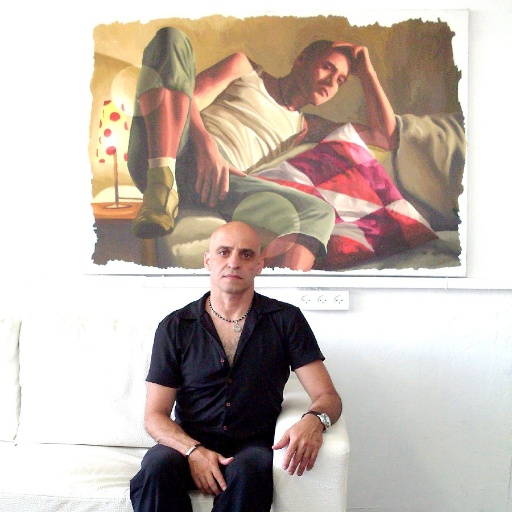hand: (282, 394, 330, 474), (192, 148, 249, 208), (184, 444, 236, 500), (327, 39, 377, 80)
